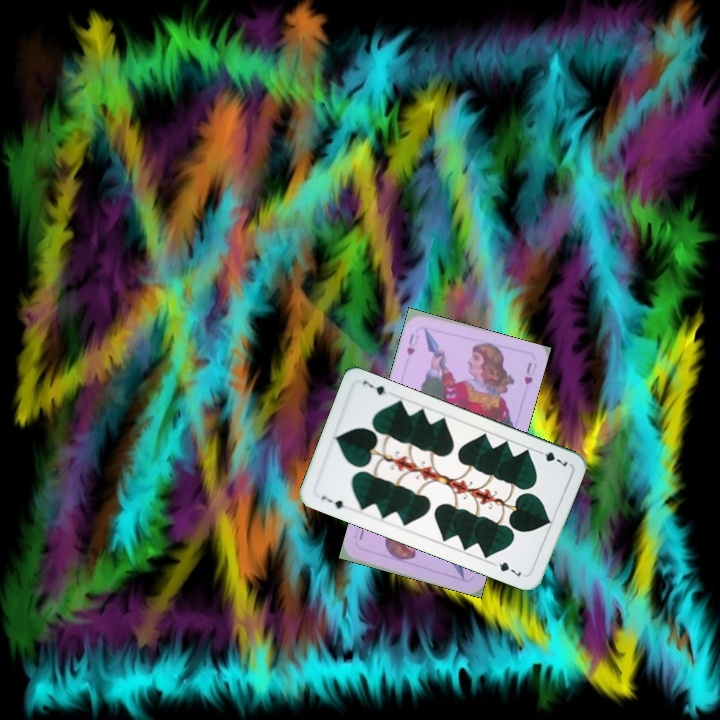G7: (532, 446, 570, 470), (317, 492, 351, 512)
HU: (403, 329, 422, 358)
